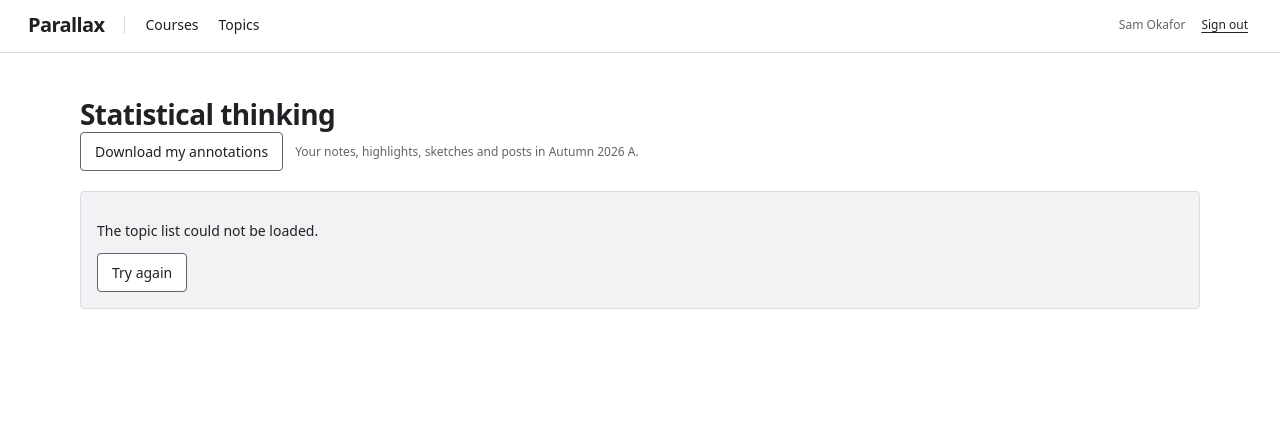
Test: topic index › A02 reports a failed load with a retry instead of an empty table
This screenshot has width=1280, height=431.
Expected: the message shows "could not be loaded", [97, 221, 318, 240]
Click the button "Try again" at (142,272), box [97, 253, 187, 292]
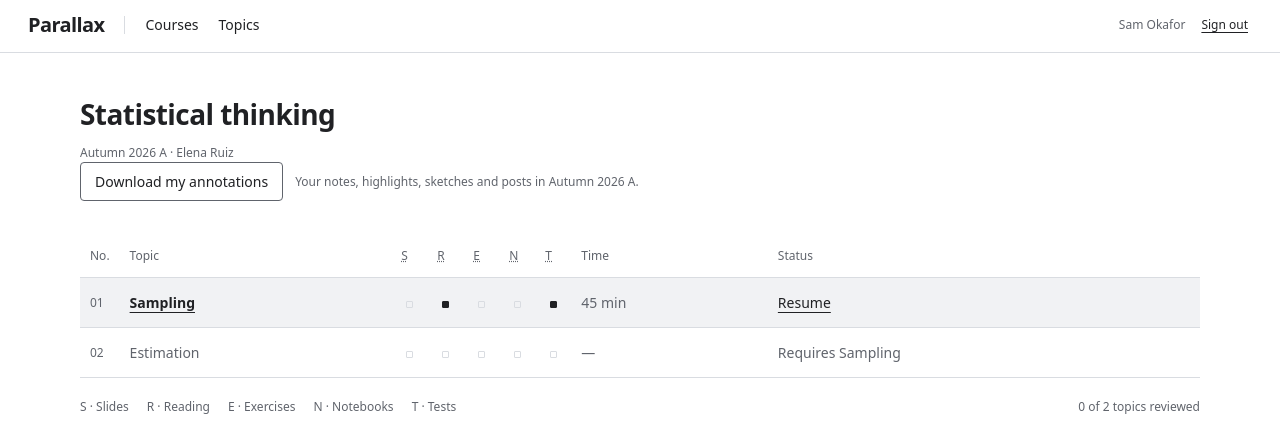
Result: the table is shown at [80, 235, 1200, 378]
